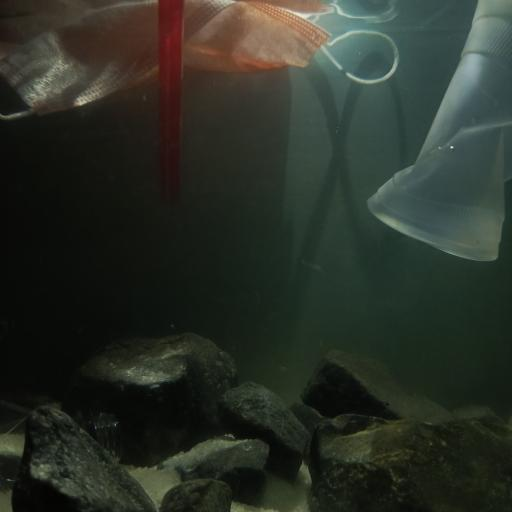mask: (2, 0, 402, 118)
plastic_cup: (366, 0, 512, 269)
plastic_straw: (156, 0, 180, 206)
